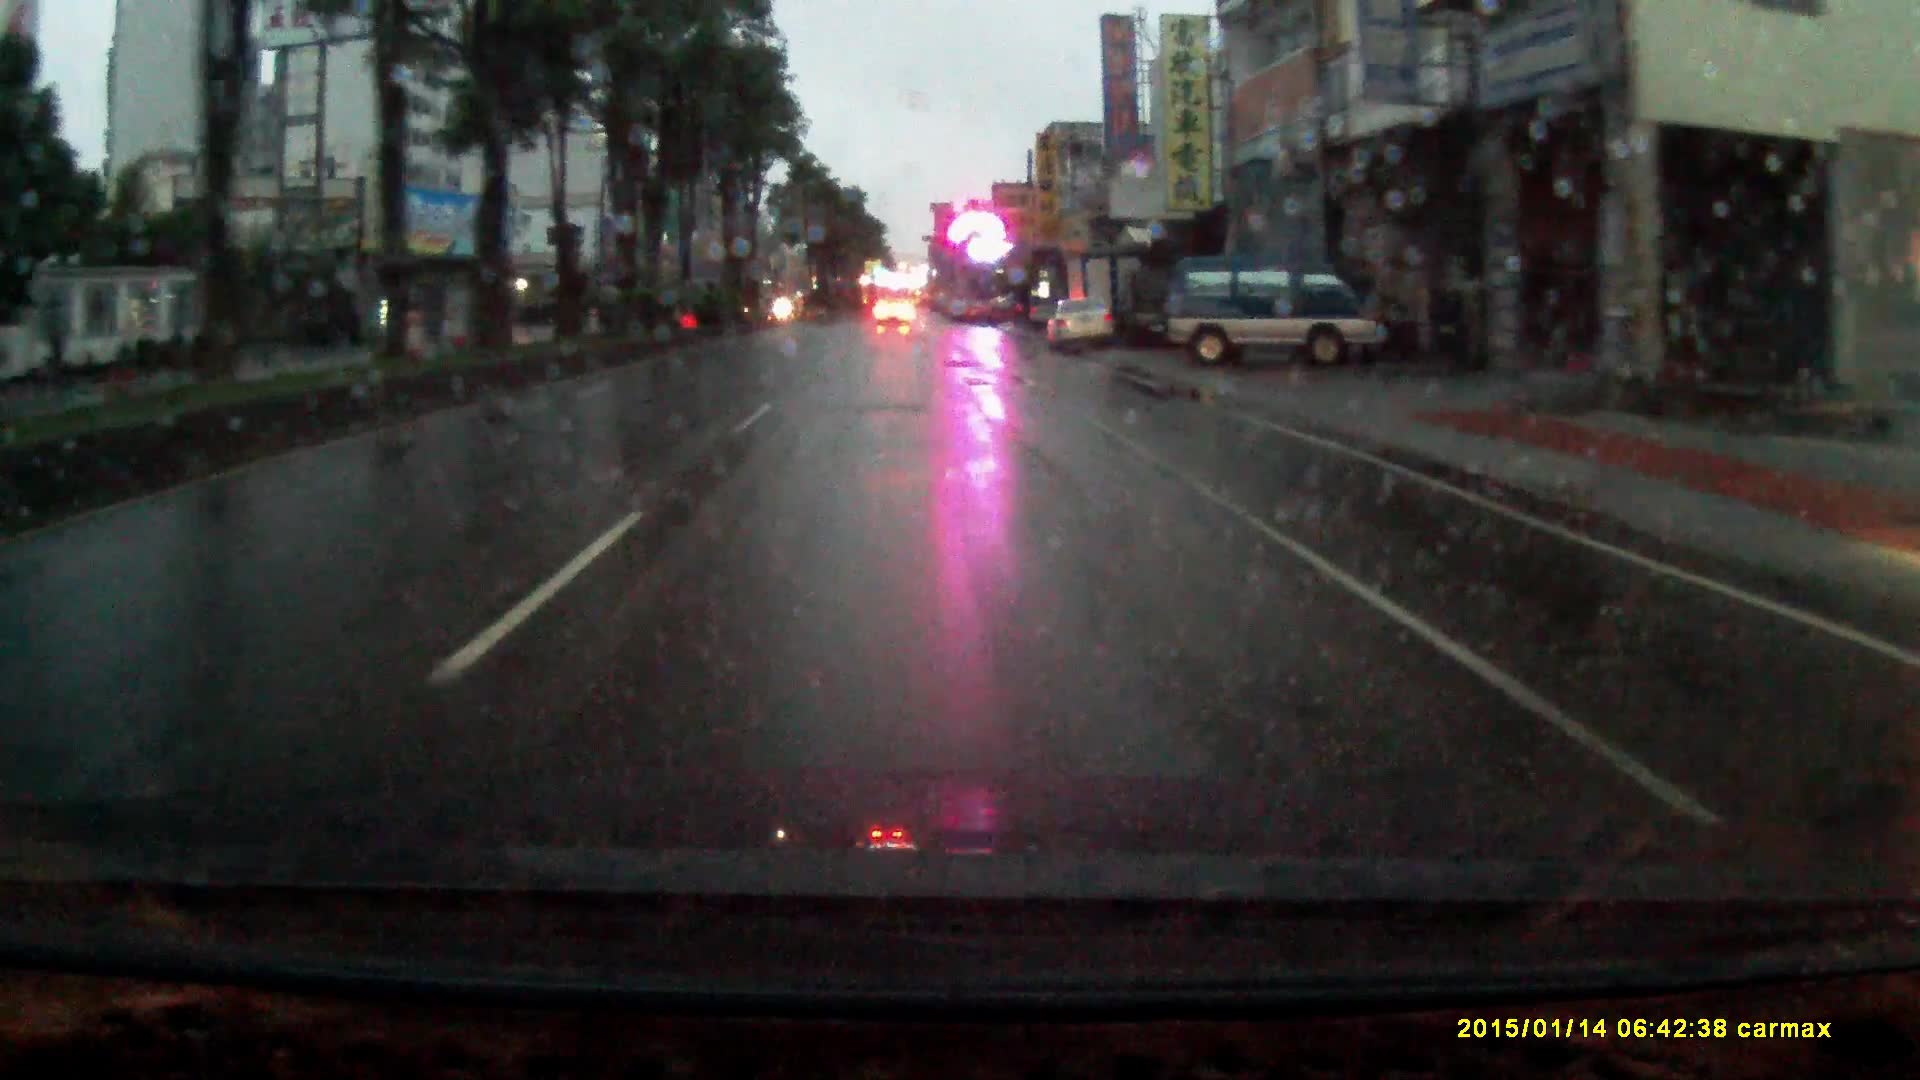vehicle: (1163, 251, 1402, 372), (1065, 247, 1147, 345), (1046, 295, 1116, 352), (876, 301, 913, 330)
